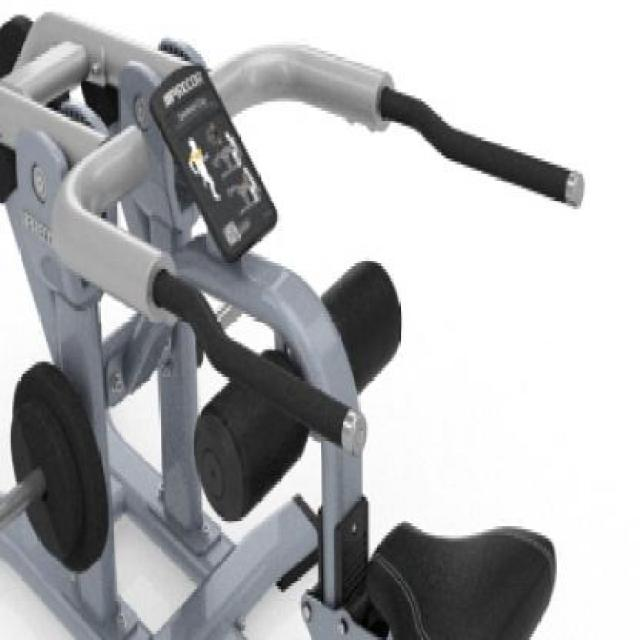seated dip machine: (0, 40, 586, 640)
